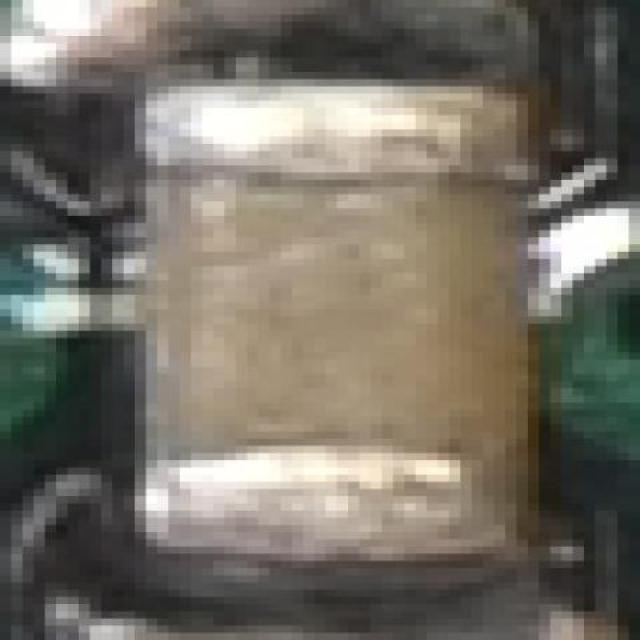Capacitor: (137, 82, 535, 560)
